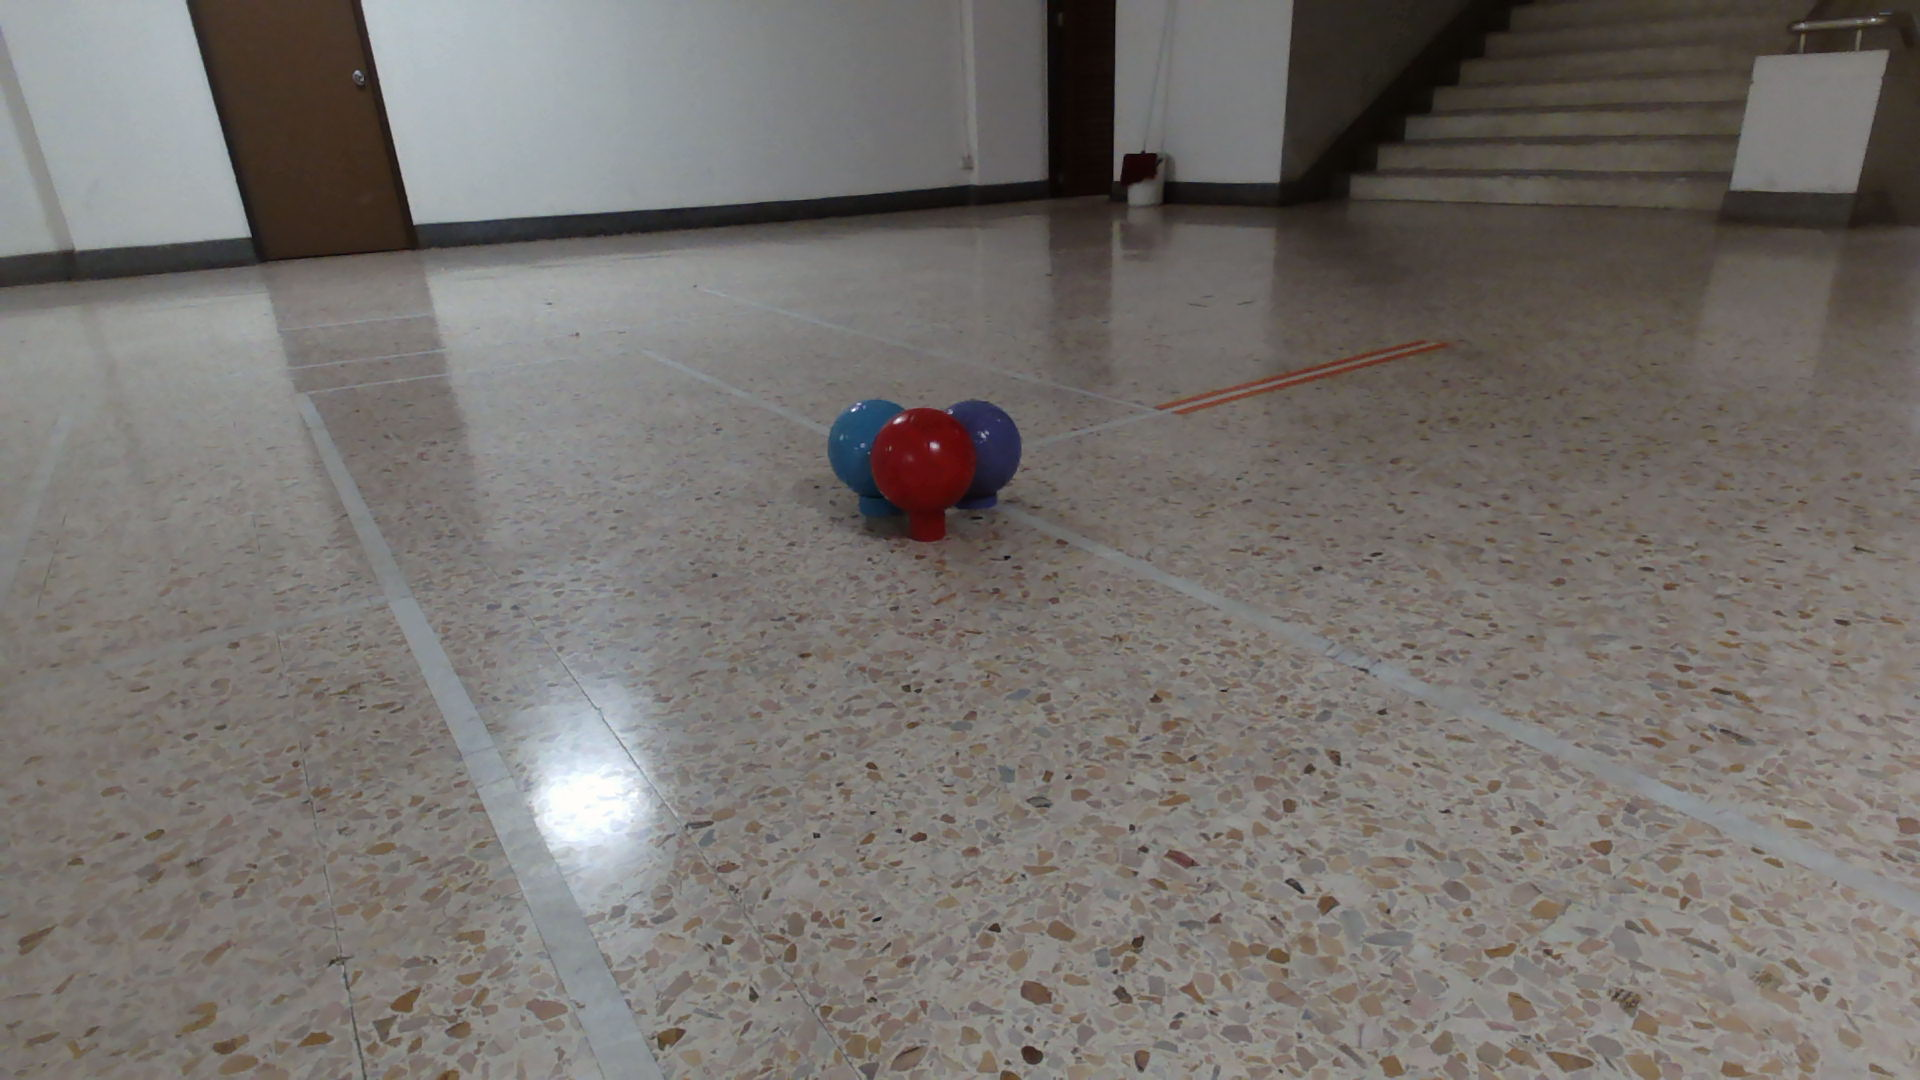Blue ball: (827, 398, 899, 495)
Purple ball: (944, 398, 1023, 493)
Red ball: (868, 407, 978, 517)
